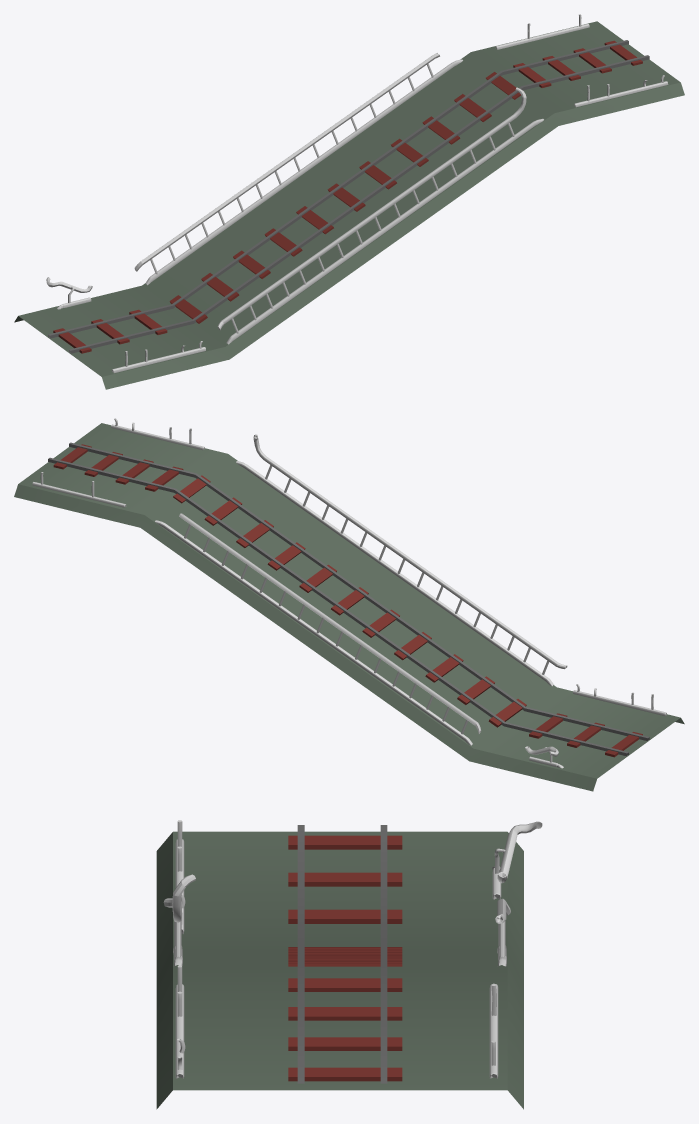
The picture shows the model from 3 angles, top to bottom: view 1: azimuth 30°, elevation 25°; view 2: azimuth 150°, elevation 25°; view 3: azimuth 270°, elevation 25°; orthographic projection. The views are drawn at different scales.
Parts seen in each view (by area): view 1: group9_pCube221; view 2: group9_pCube221; view 3: group9_pCube221.
Boxes of the visible parts, x1,y1,x2,y2 form: group9_pCube221: (14, 14, 684, 389); group9_pCube221: (14, 418, 684, 791); group9_pCube221: (156, 820, 542, 1109).
Bounding box in the file's own units: 200 × 63.7 × 57.68.
